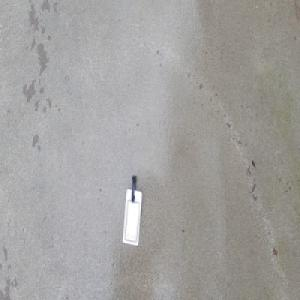LuggageTag: (121, 174, 142, 246)
